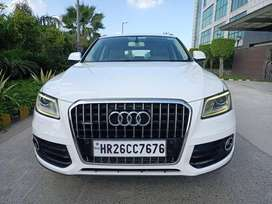HR26CC7676: (93, 140, 165, 156)
